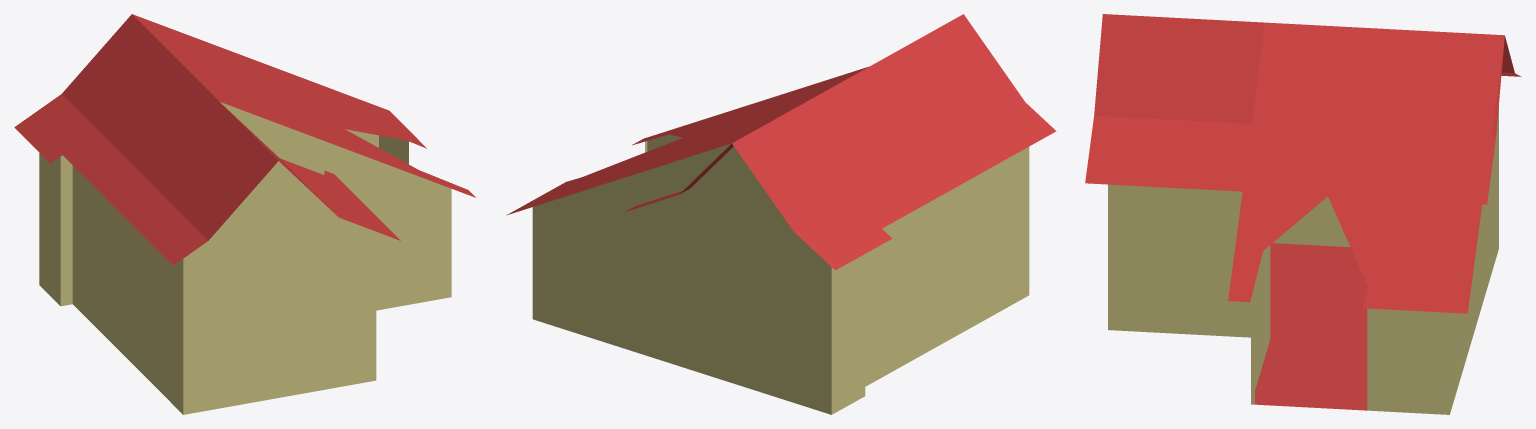
3 renders of one model, left to right at view 1: azimuth 30°, elevation 25°; view 2: azimuth 150°, elevation 25°; view 3: azimuth 270°, elevation 25°, orthographic. The views are drawn at different scales.
Bounding box in the file's own units: 22.8 × 21.21 × 14.13.
